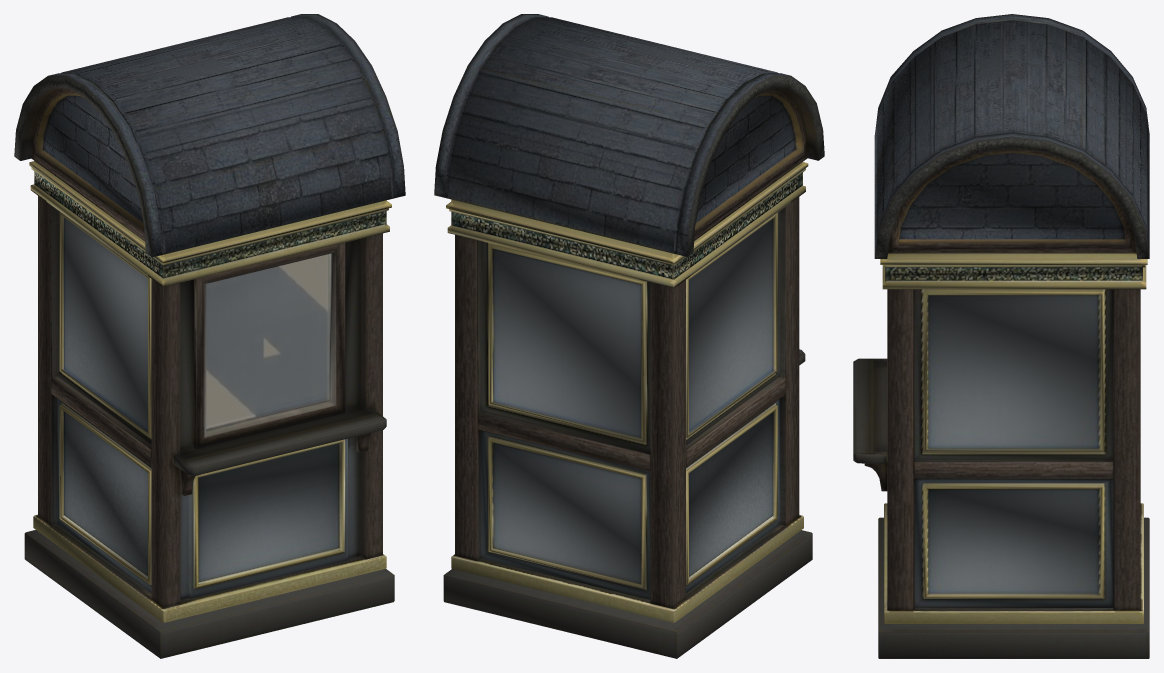
Rendered from tripo_convert_3d7d3240-88bf-47b3-944f-9acbc066e6e0.fbx.
3 views of the same model, side by side, from view 1: azimuth 30°, elevation 25°; view 2: azimuth 150°, elevation 25°; view 3: azimuth 270°, elevation 25° (orthographic).
Visible parts, largest first — view 1: tripo_node_3d7d3240; view 2: tripo_node_3d7d3240; view 3: tripo_node_3d7d3240.
Part boxes in pixels (x1,y1,x2,y2): tripo_node_3d7d3240: (14,14,405,658); tripo_node_3d7d3240: (434,14,824,658); tripo_node_3d7d3240: (853,14,1149,658).
Bounding box in the file's own units: 0.502 × 0.998 × 0.5098.
1 material, 1 textured.
